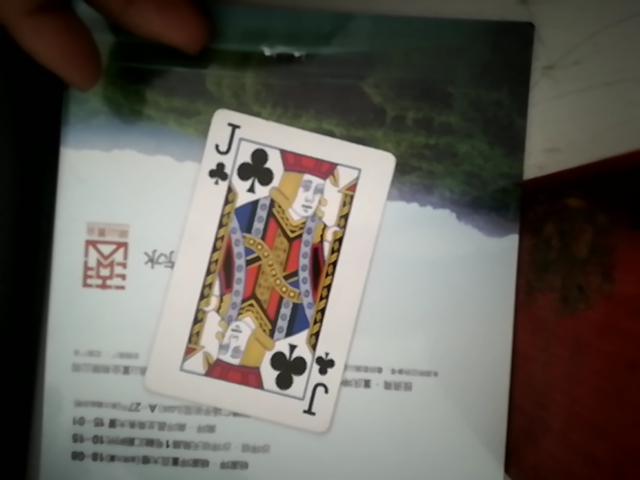mh j: (165, 100, 384, 435)
